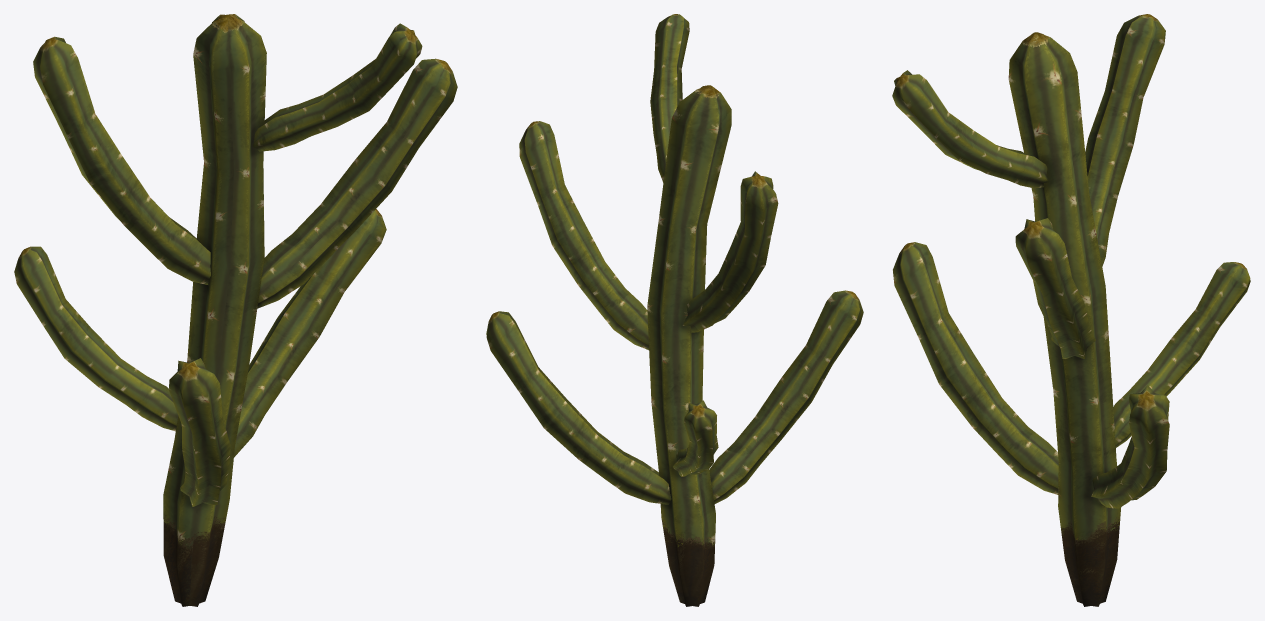
The model's file is Cacto_001.FBX.
The picture shows the model from 3 angles, left to right: view 1: azimuth 30°, elevation 25°; view 2: azimuth 150°, elevation 25°; view 3: azimuth 270°, elevation 25°; orthographic projection. The views are drawn at different scales.
Parts seen in each view (by area): view 1: Cylinder004; view 2: Cylinder004; view 3: Cylinder004.
Boxes of the visible parts, x1,y1,x2,y2 form: Cylinder004: [14, 14, 457, 606]; Cylinder004: [486, 14, 863, 606]; Cylinder004: [892, 14, 1250, 606].
Size of the model in its own units: 22.47 by 36.74 by 20.5.
